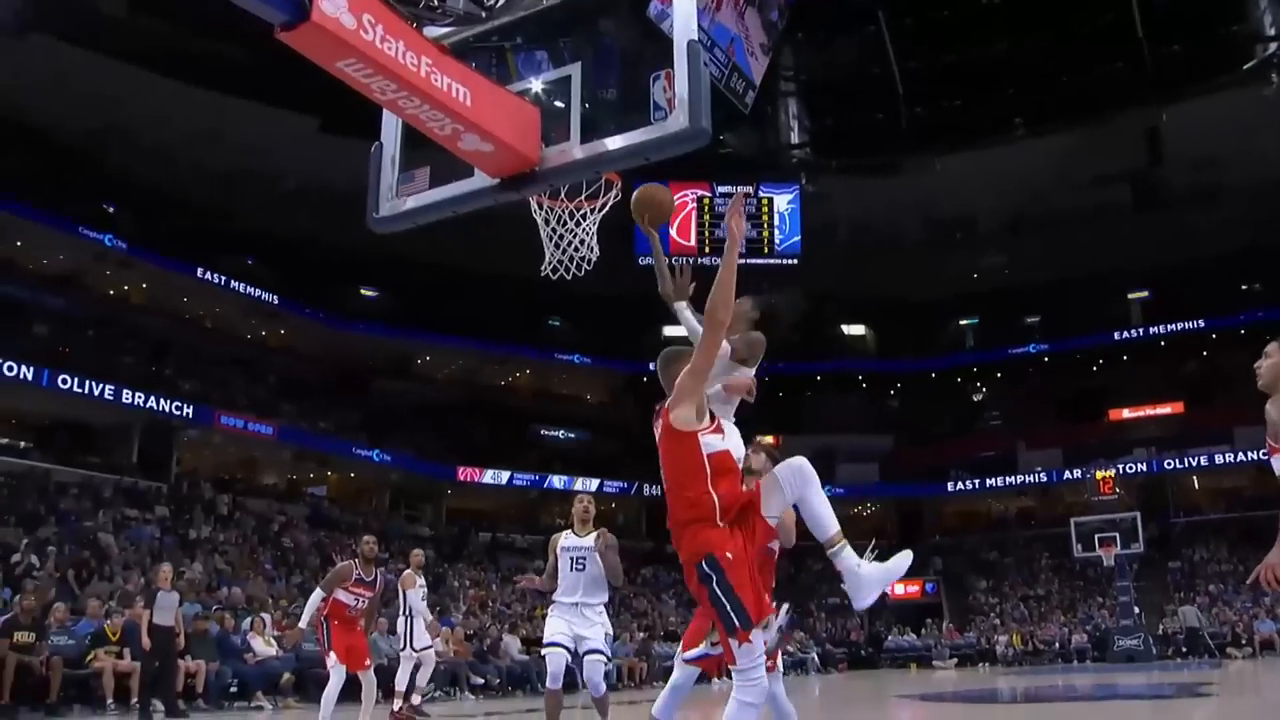ball: (624, 179, 682, 229)
net: (520, 163, 630, 281)
